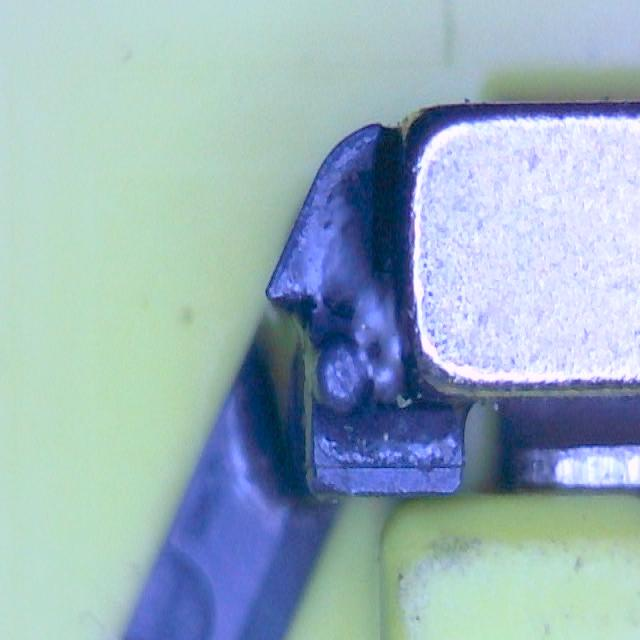over: (320, 160, 412, 398)
